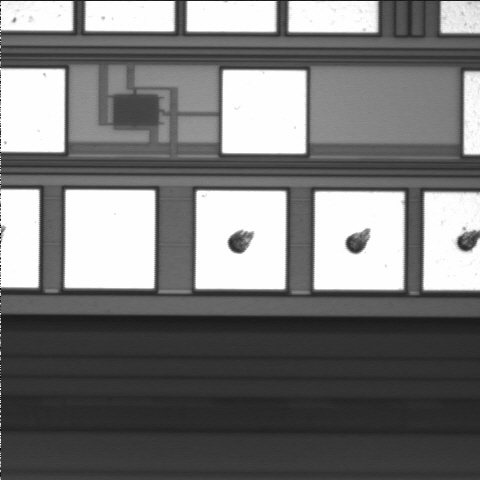pad: (65, 190, 155, 288), (196, 191, 286, 289), (314, 192, 404, 290), (222, 70, 306, 154)
